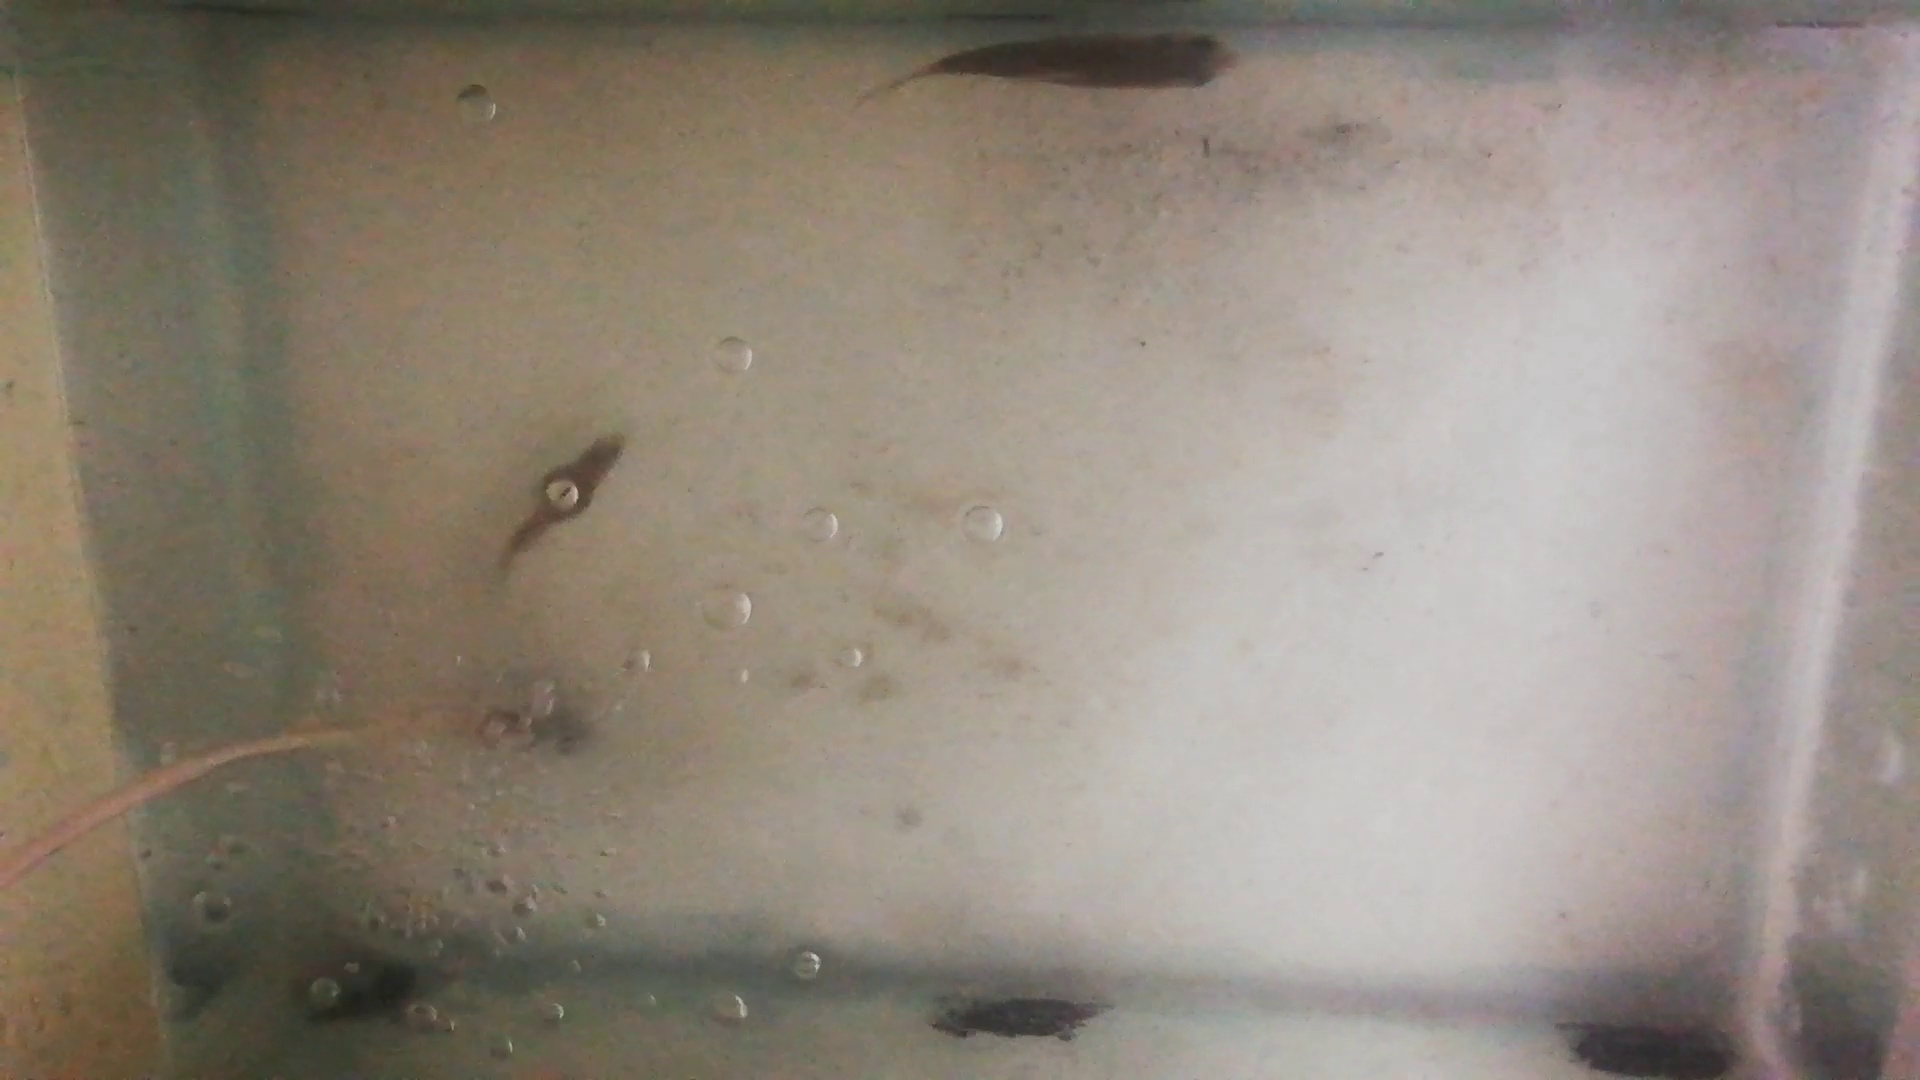fish: (926, 29, 1242, 94), (502, 433, 626, 562)
